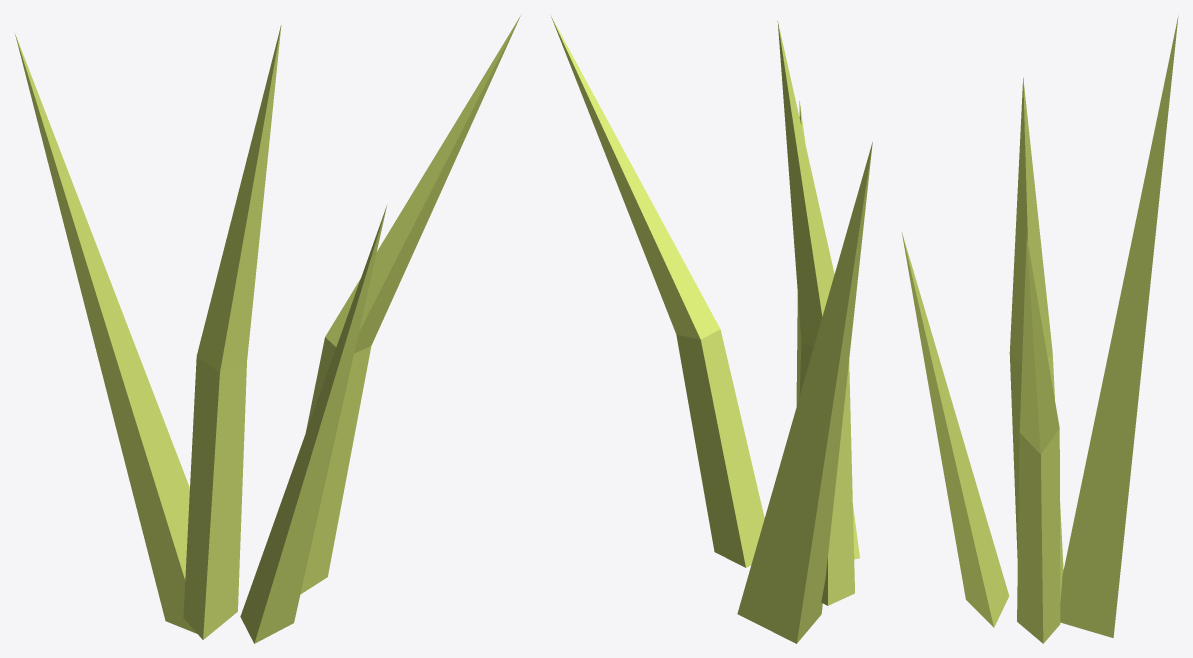
The model's file is Grass_F.fbx.
3 views of the same model, side by side, from view 1: azimuth 30°, elevation 25°; view 2: azimuth 150°, elevation 25°; view 3: azimuth 270°, elevation 25° (orthographic). The views are drawn at different scales.
Visible parts, largest first — view 1: Grass3D_a_04; view 2: Grass3D_a_04; view 3: Grass3D_a_04.
Boxes of the visible parts, box(x1,y1,x2,y2) form: Grass3D_a_04: box(15, 14, 521, 643); Grass3D_a_04: box(550, 14, 872, 643); Grass3D_a_04: box(901, 16, 1178, 643).
Size of the model in its own units: 41.37 by 57.15 by 24.77.
